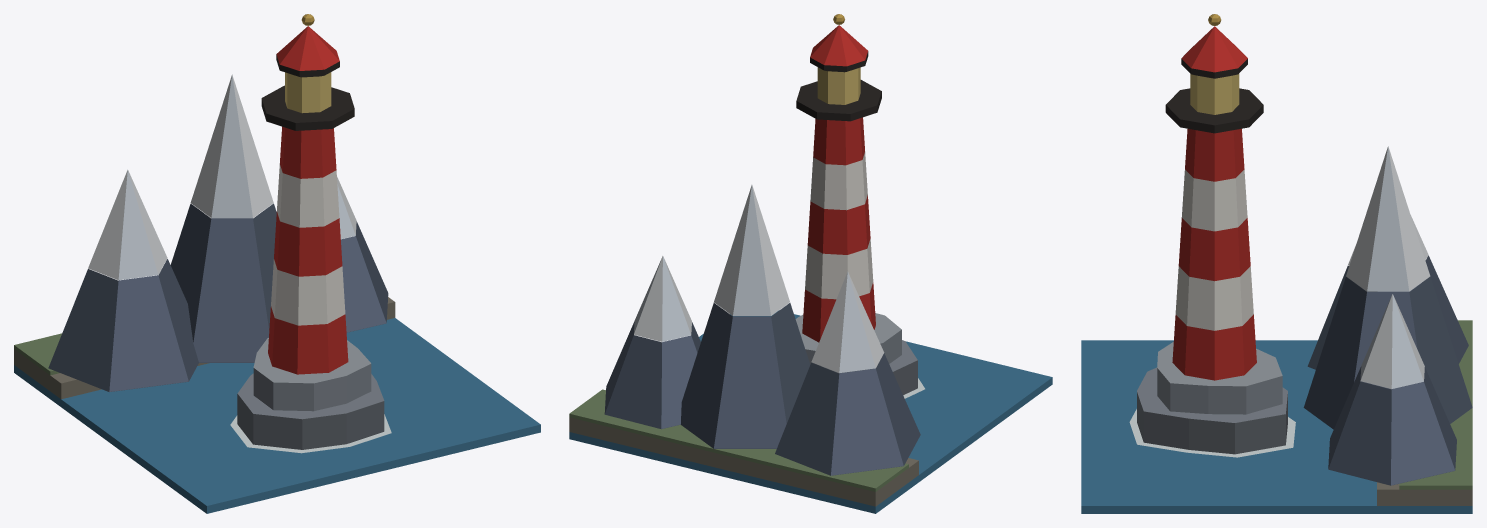
Rendered from phareUshuaia.glb.
The picture shows the model from 3 angles, left to right: view 1: azimuth 30°, elevation 25°; view 2: azimuth 150°, elevation 25°; view 3: azimuth 270°, elevation 25°; orthographic projection. The views are drawn at different scales.
Visible parts, largest first — view 1: phareUshuaia; view 2: phareUshuaia; view 3: phareUshuaia.
Part boxes in pixels (box(x1,y1,x2,y2)): phareUshuaia: box(14, 14, 540, 513); phareUshuaia: box(569, 14, 1052, 513); phareUshuaia: box(1081, 14, 1472, 513).
Size of the model in its own units: 1.76 by 2.07 by 1.76.
